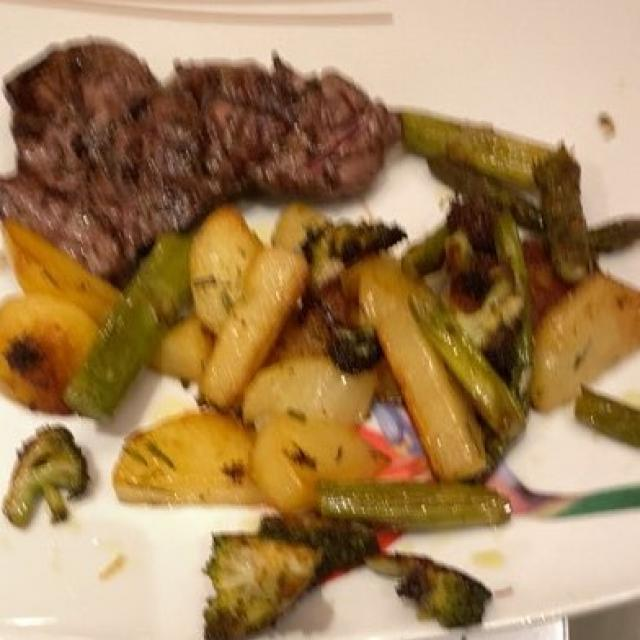lamb: (12, 51, 396, 285)
mixed-vegetables: (9, 94, 598, 626)
